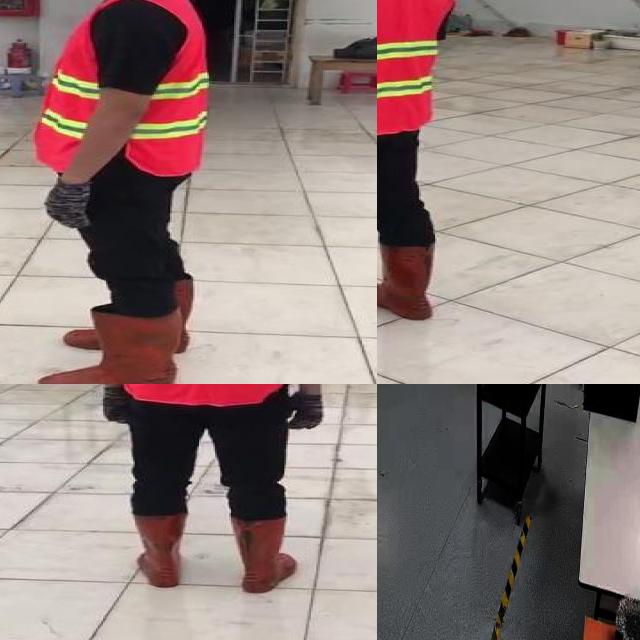boots: (35, 308, 181, 384), (226, 515, 298, 595), (124, 512, 192, 590), (377, 241, 439, 321)
hand_glove: (24, 183, 97, 229), (289, 392, 331, 434), (95, 384, 133, 428)
person: (13, 0, 221, 384), (68, 384, 347, 600), (377, 0, 461, 350)
vest: (33, 0, 212, 182), (377, 0, 454, 139)
